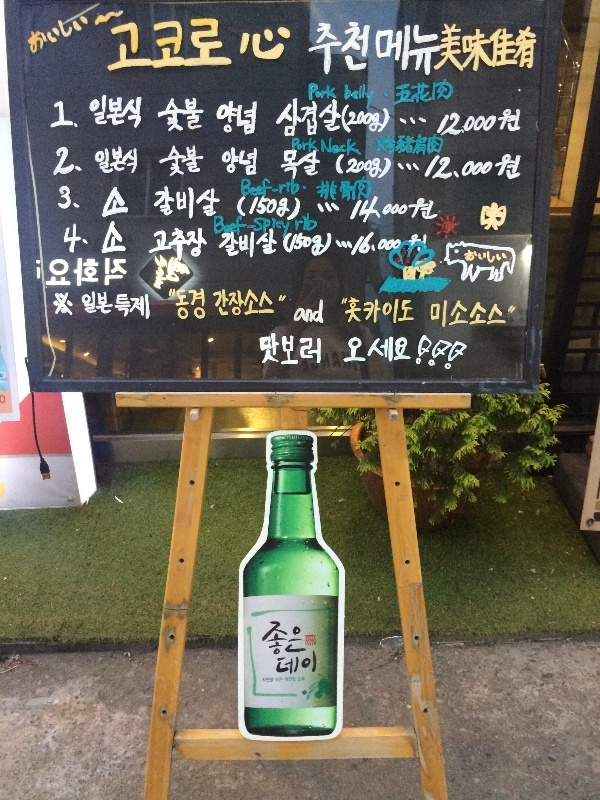text: (113, 15, 128, 75), (129, 15, 144, 75), (145, 15, 160, 75), (161, 15, 176, 75), (177, 15, 192, 75), (193, 15, 208, 75), (209, 15, 224, 75), (321, 20, 336, 79), (337, 20, 352, 79), (353, 20, 368, 79), (385, 22, 400, 79), (401, 22, 416, 79), (417, 22, 432, 79), (449, 22, 464, 72), (465, 22, 480, 72), (481, 22, 496, 72), (497, 22, 512, 72), (513, 22, 528, 72), (33, 11, 48, 59), (49, 11, 64, 59), (65, 11, 80, 59), (65, 184, 80, 226), (81, 184, 96, 226), (97, 184, 112, 226), (113, 184, 128, 226), (289, 98, 304, 138), (305, 98, 320, 138), (321, 98, 336, 138), (433, 334, 448, 374), (449, 334, 464, 374), (65, 92, 80, 130), (81, 92, 96, 130), (97, 92, 112, 130), (113, 92, 128, 130), (418, 334, 432, 374), (161, 226, 176, 263), (177, 226, 192, 263), (193, 226, 208, 263), (225, 100, 240, 137), (241, 100, 256, 137), (273, 621, 288, 657), (289, 621, 304, 657), (161, 98, 176, 134), (177, 98, 192, 134), (225, 15, 234, 75), (305, 149, 321, 182), (273, 332, 288, 367), (289, 332, 304, 367), (305, 332, 320, 367), (161, 185, 176, 220), (177, 185, 192, 220), (193, 185, 208, 220), (81, 220, 96, 255), (97, 220, 112, 255), (113, 220, 128, 255), (241, 27, 256, 62), (257, 27, 272, 62), (273, 27, 288, 62), (375, 22, 384, 79), (433, 22, 442, 79), (225, 227, 240, 261), (241, 227, 256, 261), (257, 227, 272, 261), (161, 144, 176, 178), (177, 144, 192, 178), (177, 287, 192, 320), (289, 149, 304, 182), (129, 92, 142, 130), (97, 289, 112, 321), (113, 289, 128, 321), (129, 289, 144, 321), (225, 288, 240, 319), (241, 288, 256, 319), (257, 288, 272, 319), (273, 288, 288, 319), (65, 146, 80, 177), (81, 146, 96, 177), (97, 146, 112, 177), (113, 146, 128, 177), (193, 287, 207, 320), (67, 220, 80, 255), (353, 335, 368, 365), (369, 335, 384, 365), (385, 335, 400, 365), (449, 152, 464, 182), (465, 152, 480, 182), (481, 152, 496, 182), (497, 152, 512, 182), (449, 108, 464, 138), (465, 108, 480, 138), (481, 108, 496, 138), (497, 108, 512, 138), (65, 257, 80, 287), (81, 257, 96, 287), (97, 257, 112, 287), (113, 257, 128, 287), (225, 147, 240, 177), (241, 147, 256, 177), (353, 104, 368, 134), (369, 104, 384, 134), (529, 22, 538, 72), (82, 289, 96, 321), (433, 299, 448, 328), (449, 299, 464, 328), (465, 299, 480, 328), (481, 299, 496, 328), (497, 299, 512, 328), (305, 297, 320, 326), (369, 196, 384, 225), (385, 196, 400, 225), (401, 196, 416, 225), (417, 196, 432, 225), (81, 11, 90, 59), (260, 332, 272, 367), (353, 296, 368, 324), (369, 296, 384, 324), (385, 296, 400, 324), (337, 153, 352, 181), (353, 153, 368, 181), (369, 153, 384, 181), (50, 257, 64, 287), (401, 79, 416, 107), (417, 79, 432, 107), (433, 79, 448, 107), (313, 20, 320, 79), (289, 232, 304, 259), (305, 232, 320, 259), (241, 195, 256, 222), (257, 195, 272, 222), (273, 195, 288, 222), (353, 84, 368, 111), (193, 98, 204, 134), (401, 296, 415, 324), (289, 650, 304, 676), (225, 214, 240, 240), (241, 214, 256, 240), (257, 214, 272, 240), (273, 214, 288, 240), (369, 231, 384, 257), (385, 231, 400, 257), (321, 176, 336, 202), (337, 176, 352, 202), (353, 176, 368, 202), (209, 185, 220, 220), (54, 92, 64, 130), (289, 195, 303, 222), (193, 144, 204, 178), (212, 288, 224, 319), (401, 335, 413, 365), (436, 152, 448, 182), (321, 232, 334, 259), (305, 211, 320, 234), (241, 178, 256, 200), (257, 178, 272, 200), (273, 178, 288, 200), (385, 134, 400, 156), (401, 134, 416, 156), (417, 134, 432, 156), (357, 196, 368, 225), (321, 136, 336, 157), (337, 136, 352, 157), (305, 650, 317, 676), (321, 83, 337, 102), (342, 104, 352, 134), (442, 22, 448, 72), (305, 352, 320, 372), (321, 352, 336, 372), (337, 352, 352, 372), (152, 226, 160, 263), (277, 650, 288, 676), (342, 296, 352, 324), (55, 146, 64, 177), (129, 146, 138, 177), (513, 152, 522, 182), (289, 178, 301, 200), (433, 134, 445, 156), (295, 297, 304, 326), (214, 214, 224, 240), (305, 136, 320, 153), (385, 153, 394, 181), (58, 184, 64, 226), (513, 108, 521, 138), (282, 98, 288, 138), (27, 11, 32, 59), (169, 287, 176, 320), (281, 149, 288, 182), (308, 83, 320, 102), (266, 621, 272, 657), (344, 84, 352, 111), (369, 84, 377, 111), (353, 136, 363, 157), (295, 211, 304, 234), (292, 136, 304, 153), (145, 289, 151, 321), (219, 100, 224, 137), (361, 231, 368, 257), (465, 250, 480, 262), (481, 250, 496, 262), (369, 20, 372, 79), (155, 185, 160, 220), (273, 227, 278, 261), (337, 98, 341, 138), (465, 334, 469, 374), (377, 134, 384, 156), (385, 104, 390, 134), (433, 196, 438, 225), (220, 227, 224, 261), (348, 335, 352, 365), (497, 250, 507, 262), (513, 299, 517, 328), (396, 79, 400, 107), (449, 79, 453, 107), (284, 232, 288, 259), (289, 27, 292, 62), (353, 352, 358, 372), (445, 108, 448, 138), (321, 297, 324, 326), (306, 640, 320, 646), (306, 635, 320, 641), (129, 184, 131, 226), (275, 677, 288, 683), (289, 214, 292, 240), (317, 176, 320, 202), (369, 176, 372, 202), (305, 621, 307, 657), (262, 677, 272, 684), (111, 15, 112, 75), (301, 352, 304, 372), (289, 676, 297, 683), (238, 195, 240, 222), (401, 231, 403, 257), (298, 676, 304, 683), (257, 100, 258, 137), (159, 98, 160, 134), (321, 332, 322, 367), (223, 147, 224, 177), (257, 147, 258, 177), (431, 299, 432, 328), (285, 676, 288, 683), (273, 677, 274, 684), (305, 676, 306, 683)
